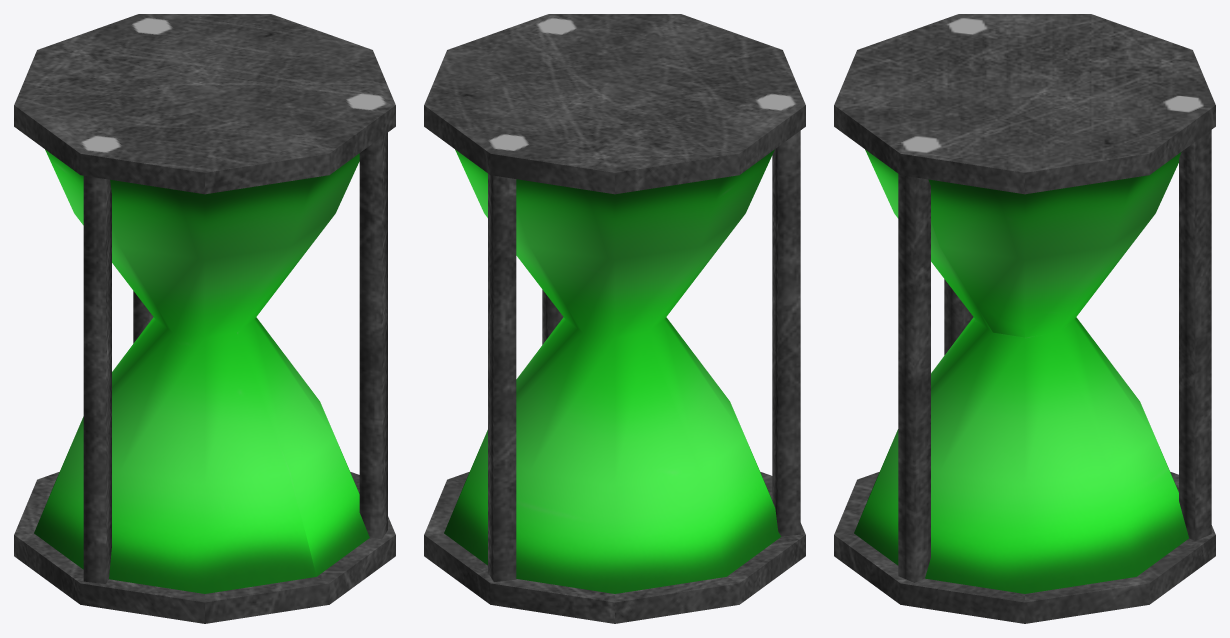
File: SandClock.FBX
The picture shows the model from 3 angles, left to right: view 1: azimuth 30°, elevation 25°; view 2: azimuth 150°, elevation 25°; view 3: azimuth 270°, elevation 25°; orthographic projection.
Parts seen in each view (by area): view 1: SandClock; view 2: SandClock; view 3: SandClock.
Boxes of the visible parts, x1,y1,x2,y2 form: SandClock: (14, 14, 395, 623); SandClock: (424, 14, 805, 623); SandClock: (834, 14, 1215, 623).
Size of the model in its own units: 19.26 by 25.5 by 19.56.
